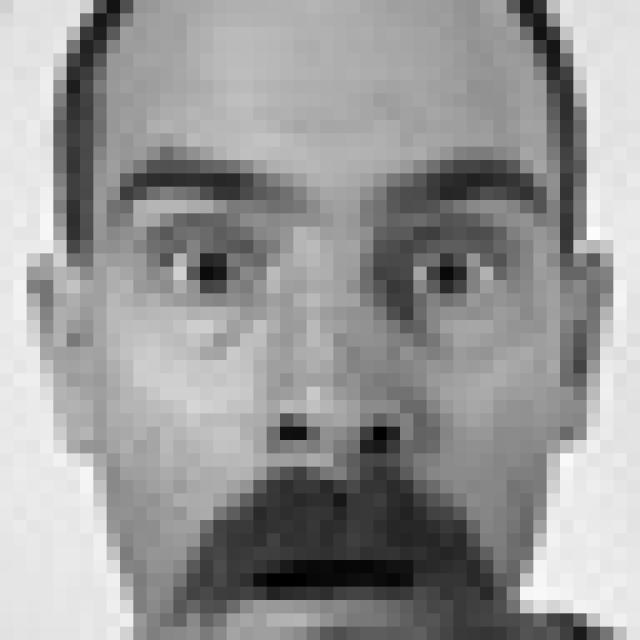surprise: (107, 142, 556, 629)
